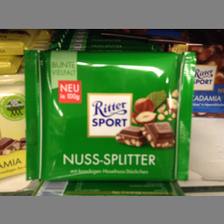chocolate: (23, 49, 195, 183)
